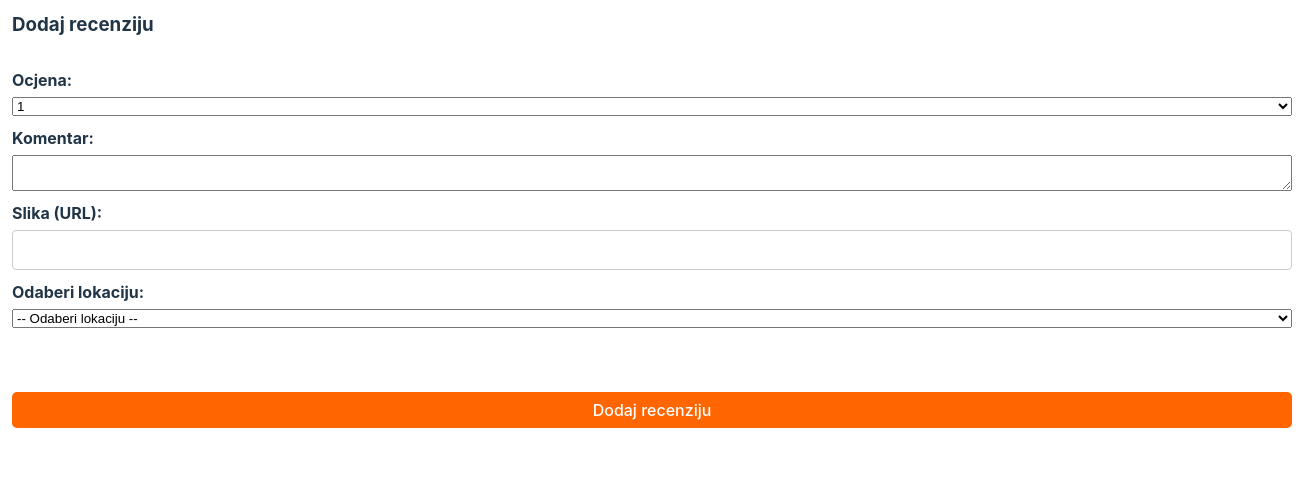
Test: AddReview › integracijski testovi › dodaje recenziju sa postojecom lokacijom
The width and height of the screenshot is (1304, 483).
Select "5" in the dropdown labelled "Ocjena:" at (652, 106), box [12, 96, 1292, 116]
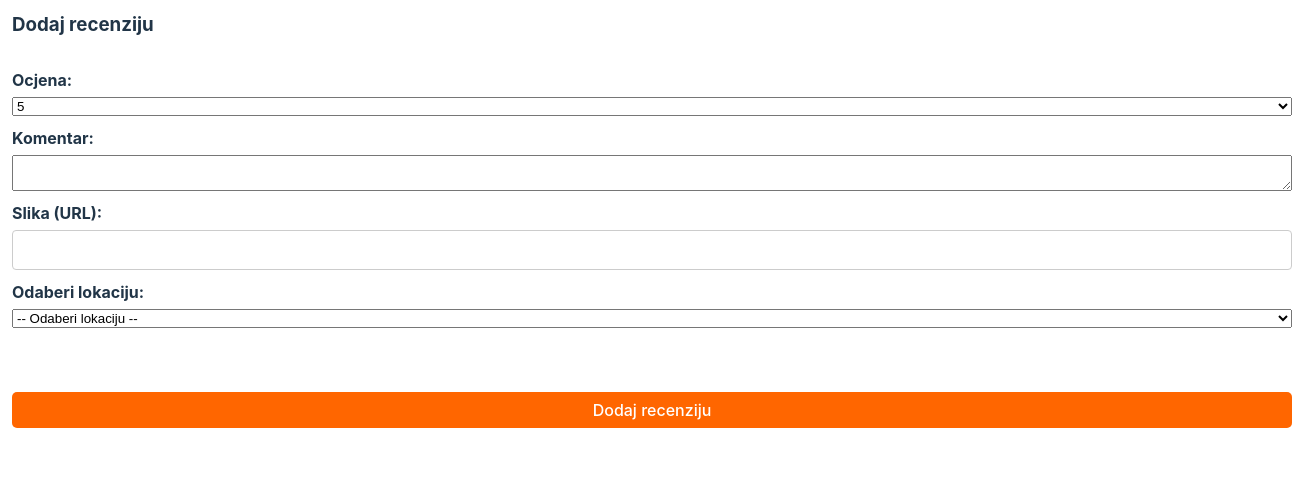
Type "Great place!" into the text box labelled "Komentar:" at (652, 172), box [12, 154, 1292, 190]
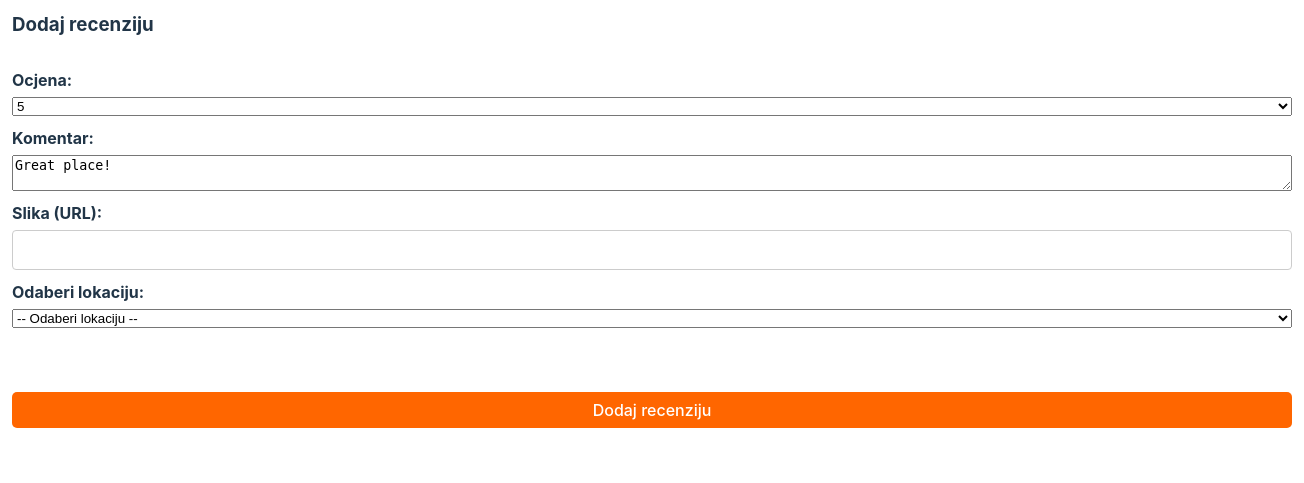
Type "image_url" into the field labelled "Slika (URL):" at (652, 250), box [12, 230, 1292, 270]
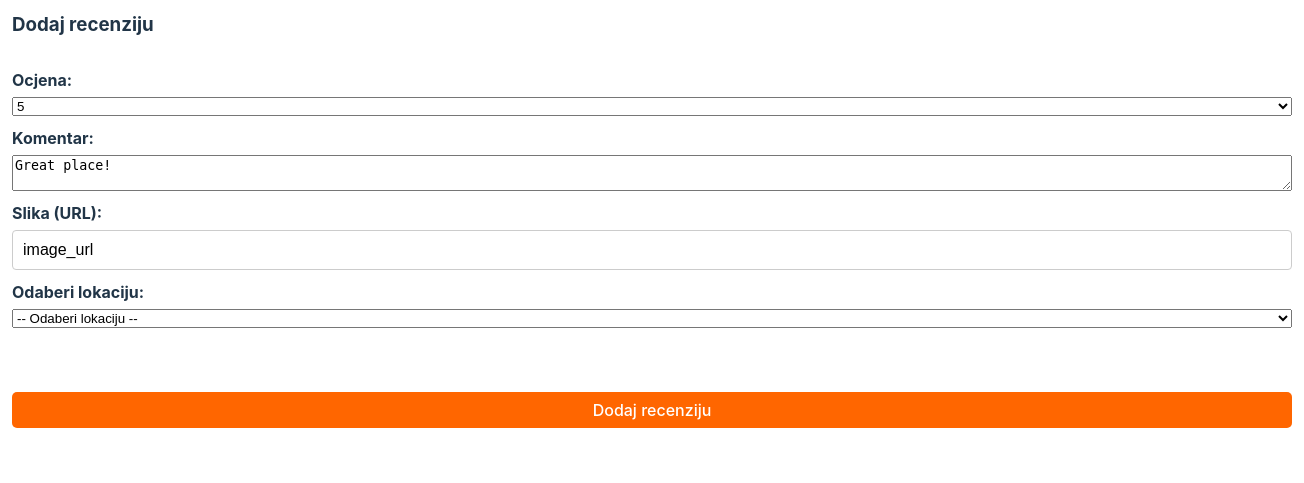
Select "1" in the dropdown labelled "Odaberi lokaciju:" at (652, 318), box [12, 308, 1292, 328]
Click the button "Dodaj recenziju" at (652, 410), box [12, 392, 1292, 428]
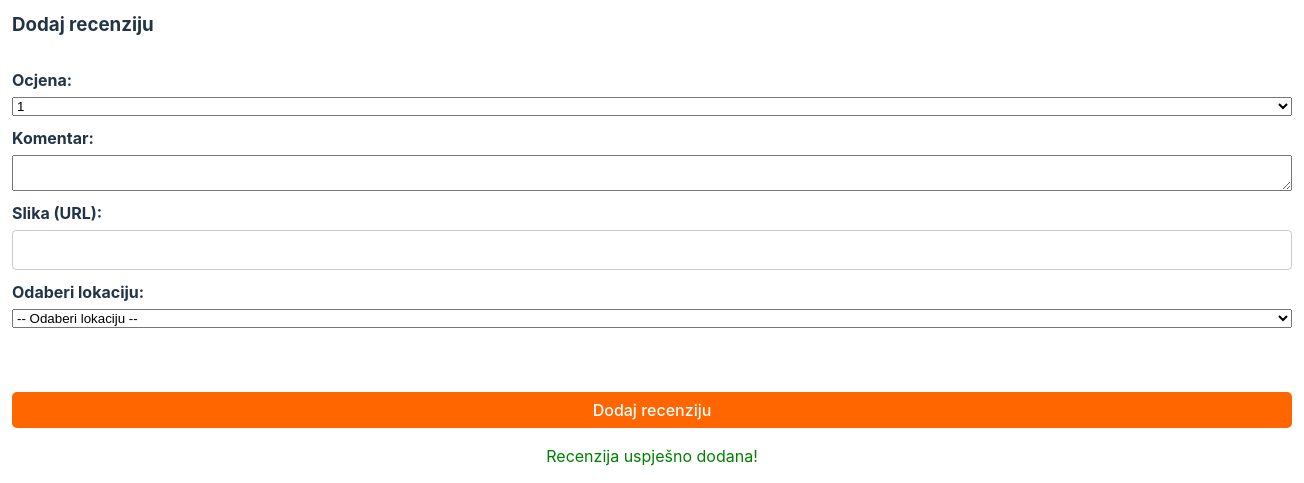
Check: the text "Recenzija uspješno dodana!" is shown, box [546, 446, 758, 466]
